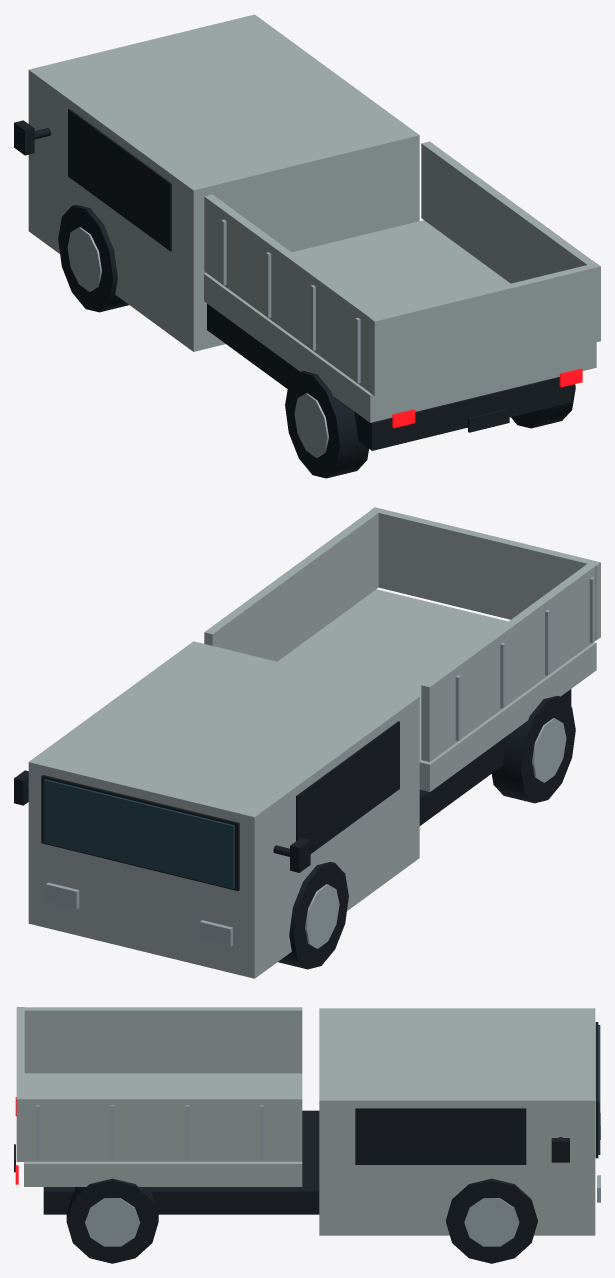
File: traffic-pickup.glb
3 views of the same model, one above another, from view 1: azimuth 30°, elevation 25°; view 2: azimuth 150°, elevation 25°; view 3: azimuth 270°, elevation 25° (orthographic). The views are drawn at different scales.
Parts seen in each view (by area): view 1: lod_body, lod_dark, lod_metal, brake_lights; view 2: lod_body, lod_dark, lod_glass, lod_metal; view 3: lod_body, lod_dark, lod_metal, lod_glass.
Boxes of the visible parts, left/top/right/bottom form: lod_body: left=28, top=14, right=600, bottom=422; lod_dark: left=14, top=109, right=575, bottom=478; lod_metal: left=67, top=163, right=548, bottom=457; brake_lights: left=392, top=368, right=582, bottom=428; lod_body: left=28, top=507, right=600, bottom=978; lod_dark: left=14, top=689, right=575, bottom=969; lod_glass: left=43, top=779, right=234, bottom=888; lod_metal: left=46, top=520, right=594, bottom=948; lod_body: left=16, top=1007, right=595, bottom=1235; lod_dark: left=14, top=1022, right=598, bottom=1263; lod_metal: left=36, top=1105, right=600, bottom=1246; lod_glass: left=598, top=1025, right=600, bottom=1154.
Bounding box in the file's own units: 2.4 × 1.56 × 5.11.
